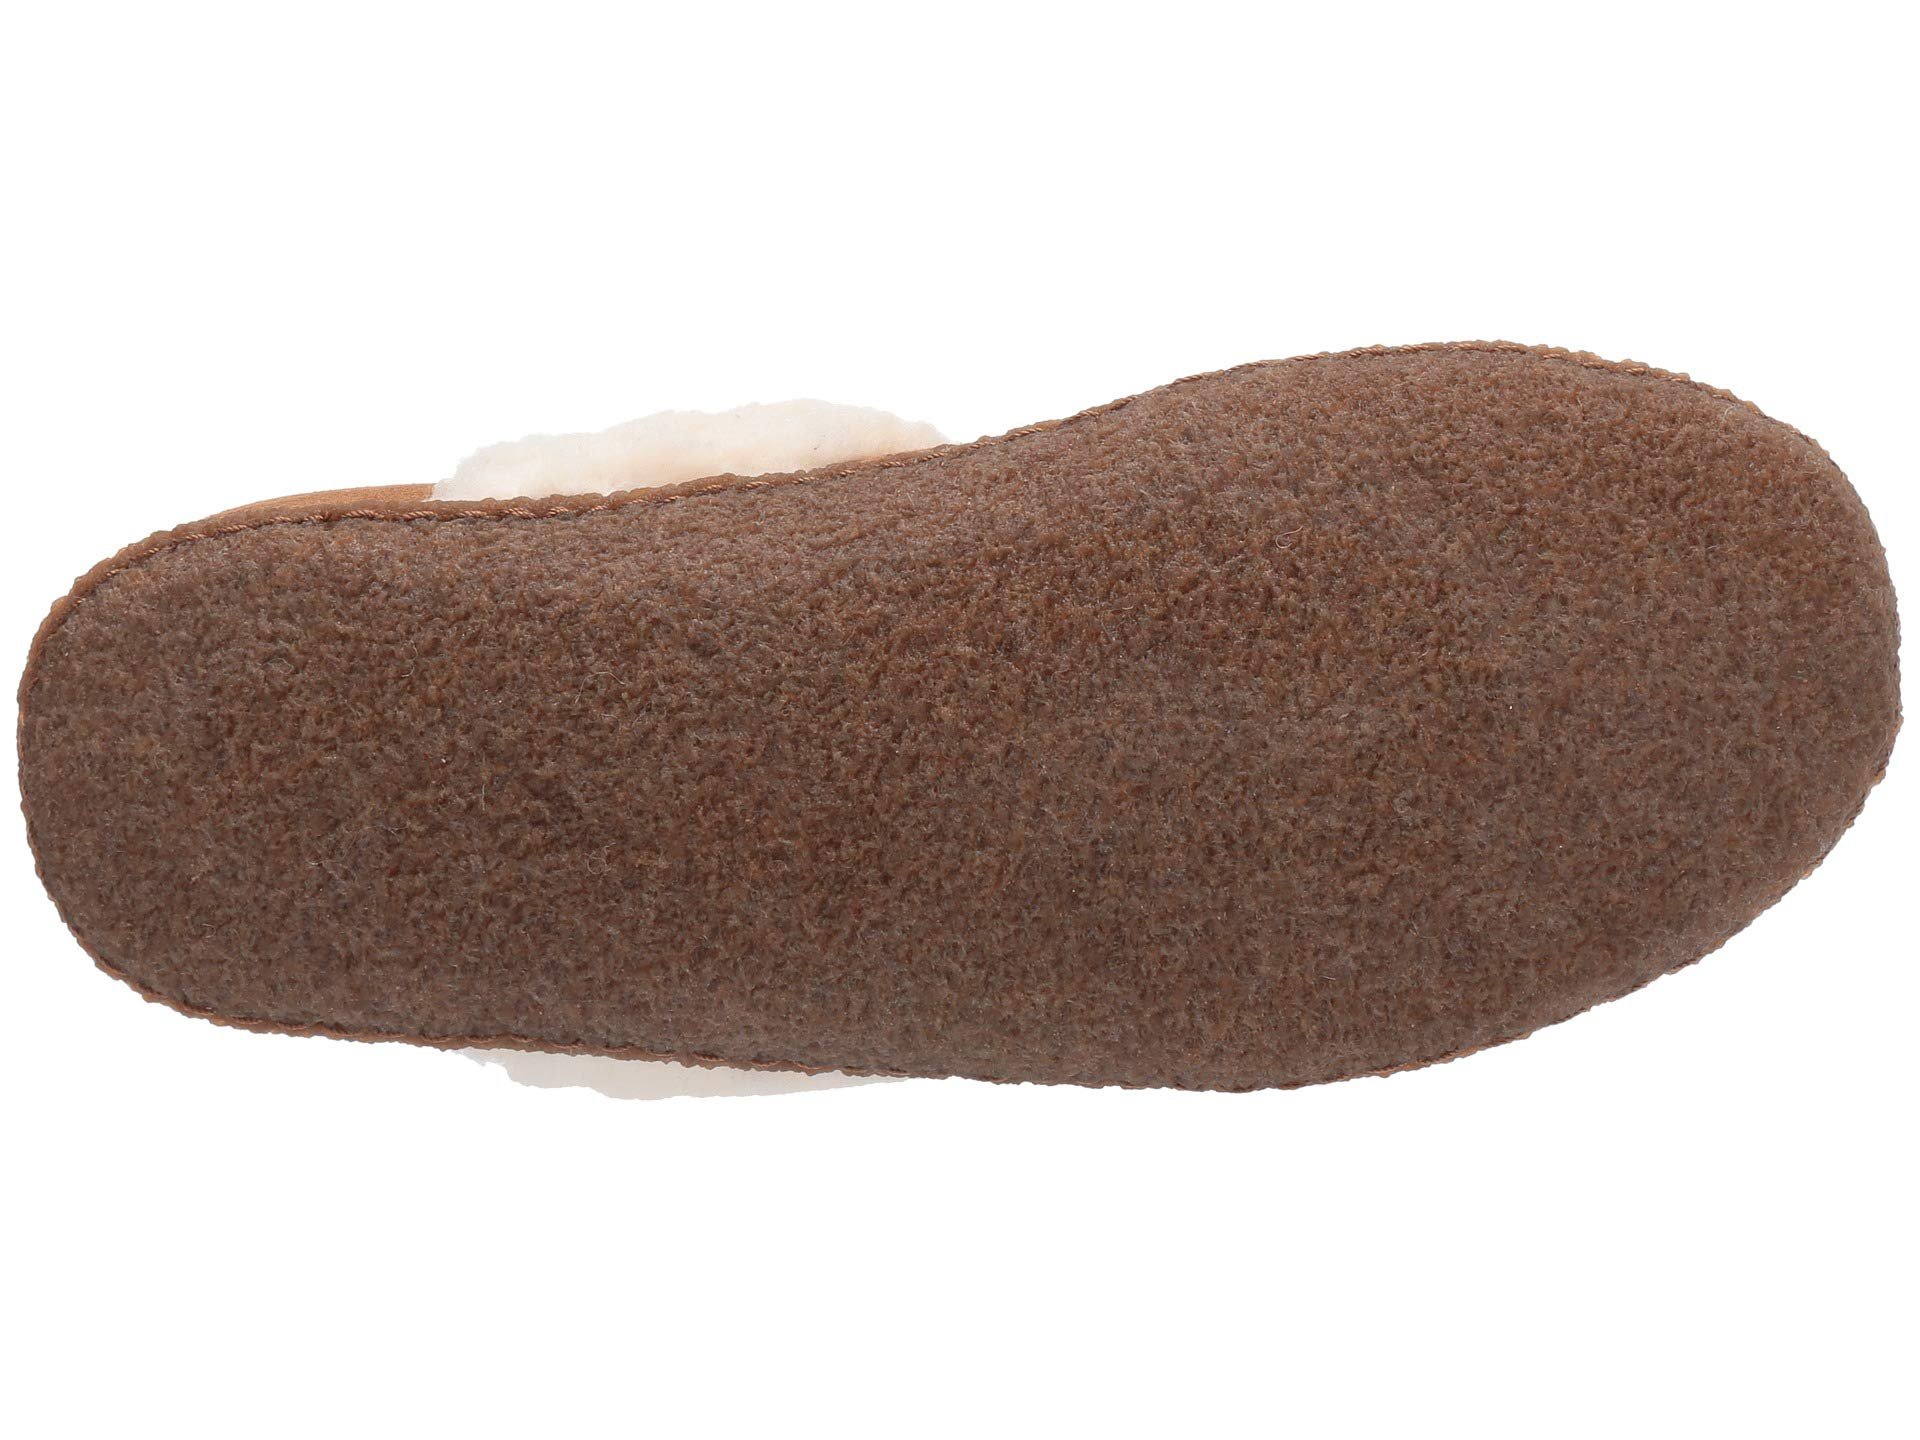other: (414, 638, 720, 945)
